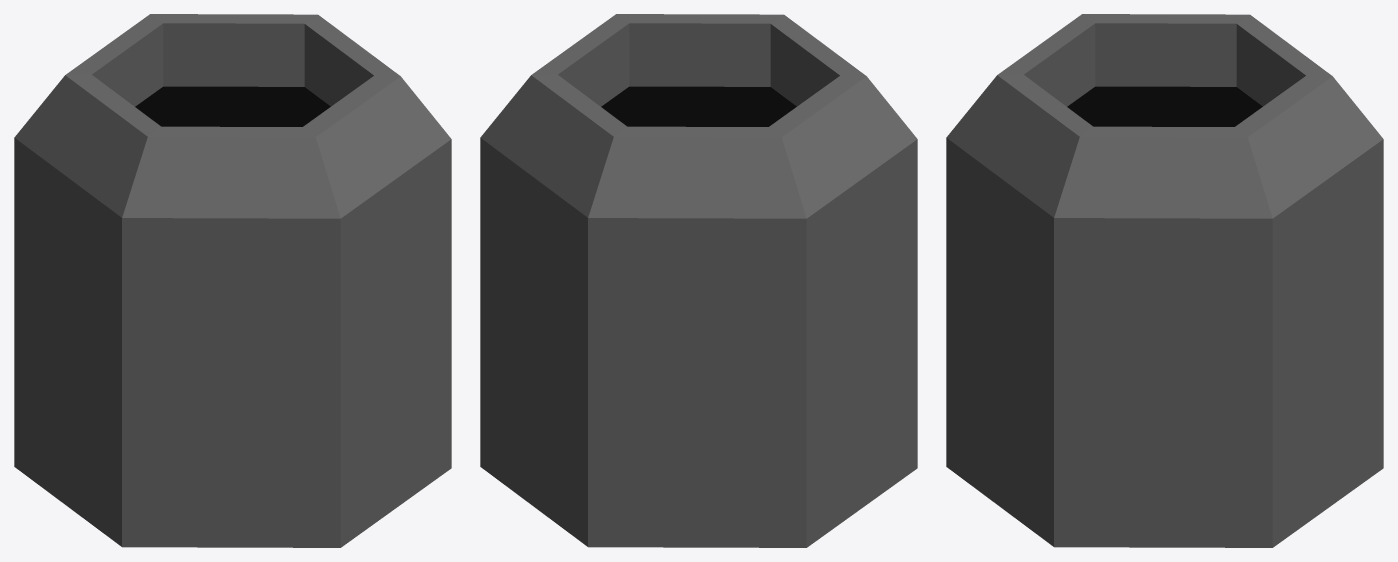
Rendered from Socket_single.fbx.
3 views of the same model, side by side, from view 1: azimuth 30°, elevation 25°; view 2: azimuth 150°, elevation 25°; view 3: azimuth 270°, elevation 25° (orthographic).
Visible parts, largest first — view 1: Socket single; view 2: Socket single; view 3: Socket single.
Boxes of the visible parts, bbox=[...] form: Socket single: bbox=[14, 14, 451, 547]; Socket single: bbox=[480, 14, 917, 547]; Socket single: bbox=[946, 14, 1383, 547].
Bounding box in the file's own units: 10.41 × 11.84 × 11.96.
